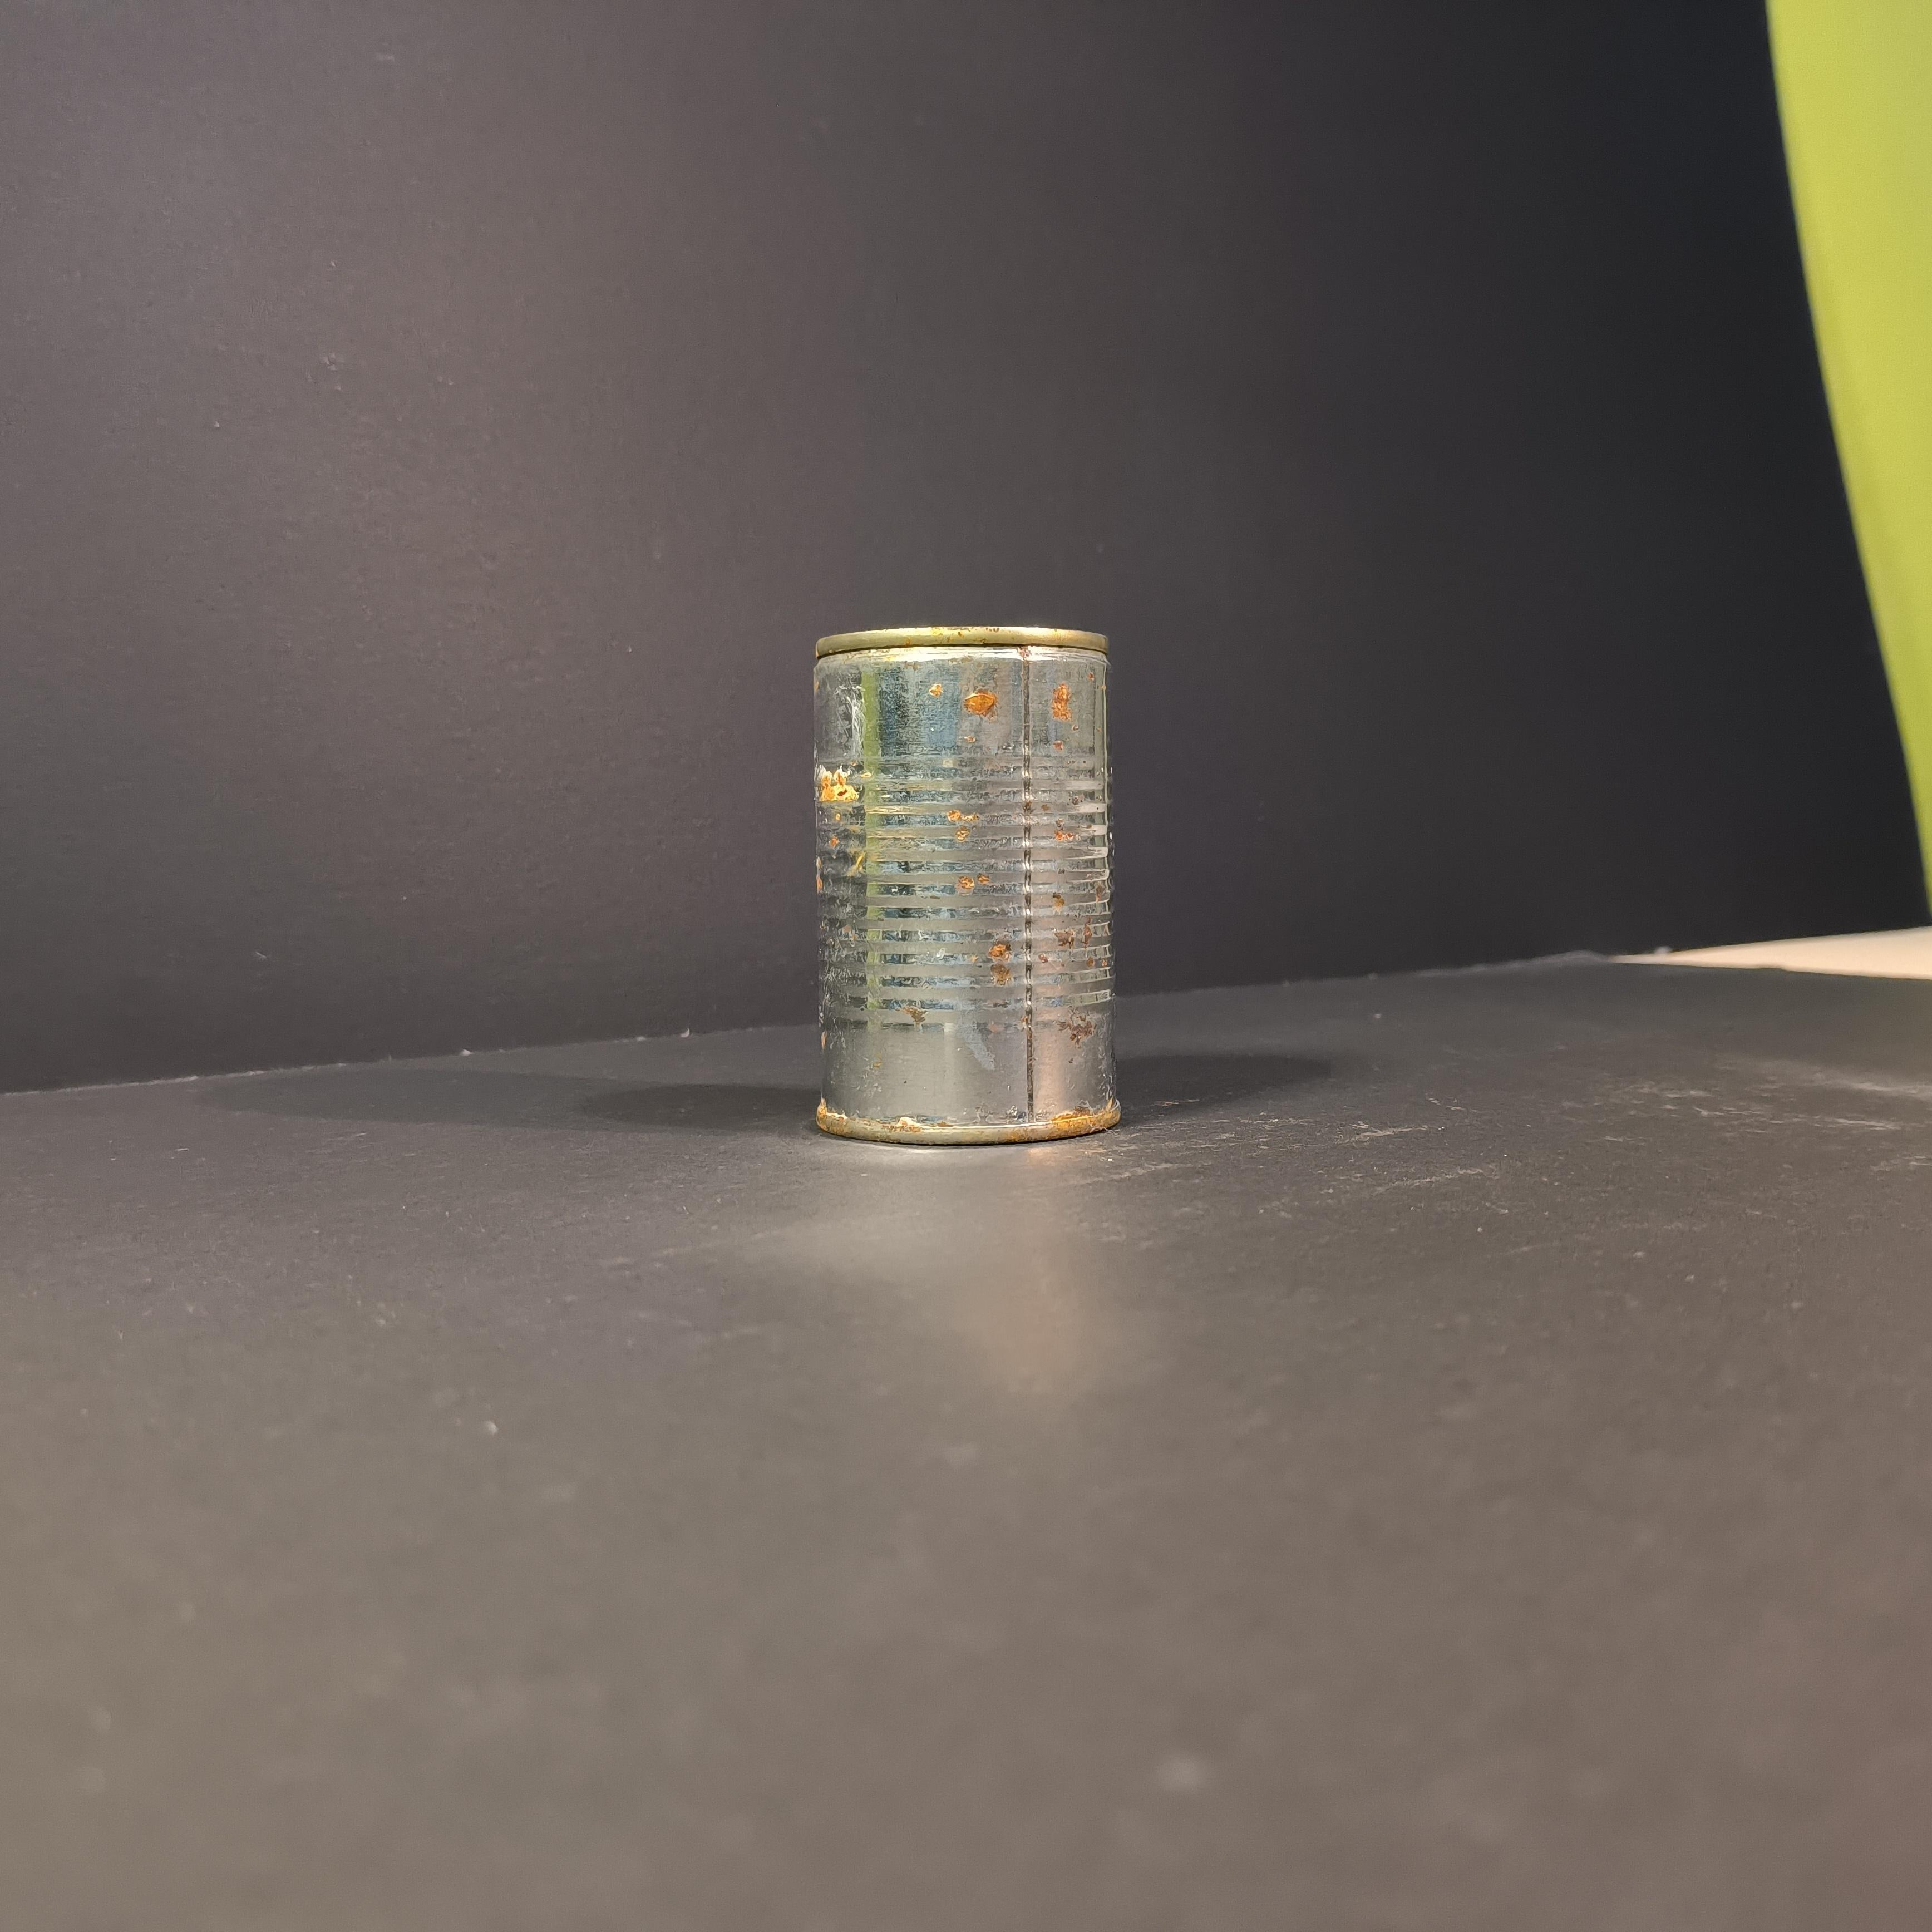Rusted: (787, 607, 1143, 1171)
